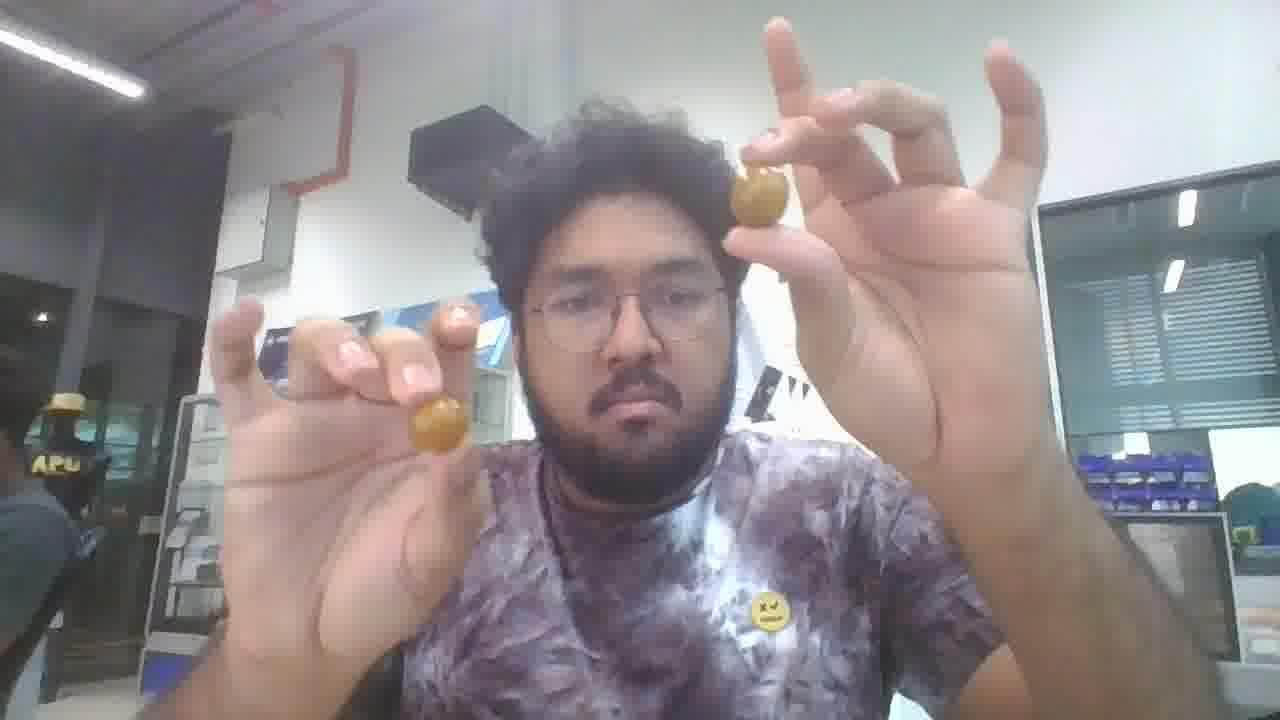yellow_cherry_tomato: (729, 165, 789, 227), (411, 396, 468, 452)
